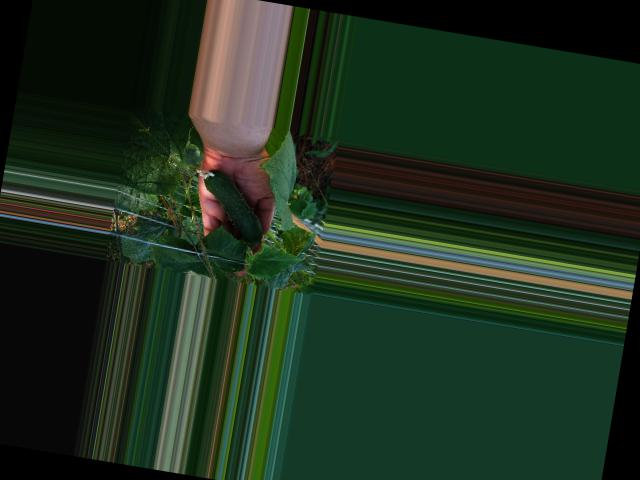cucumber: (184, 166, 271, 245)
